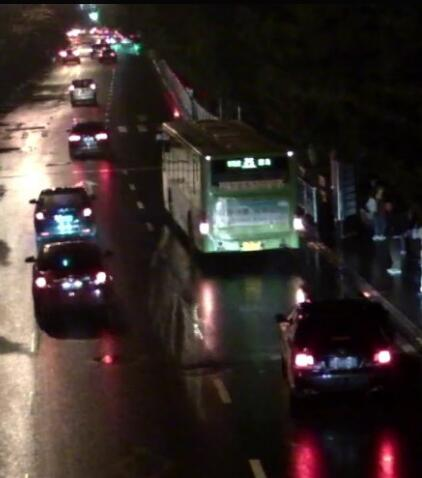bus: (157, 118, 304, 253)
car: (275, 296, 402, 405), (25, 237, 113, 331), (28, 184, 96, 238), (65, 121, 110, 156), (68, 81, 95, 101), (57, 46, 78, 62), (98, 45, 114, 60), (88, 41, 103, 56)
